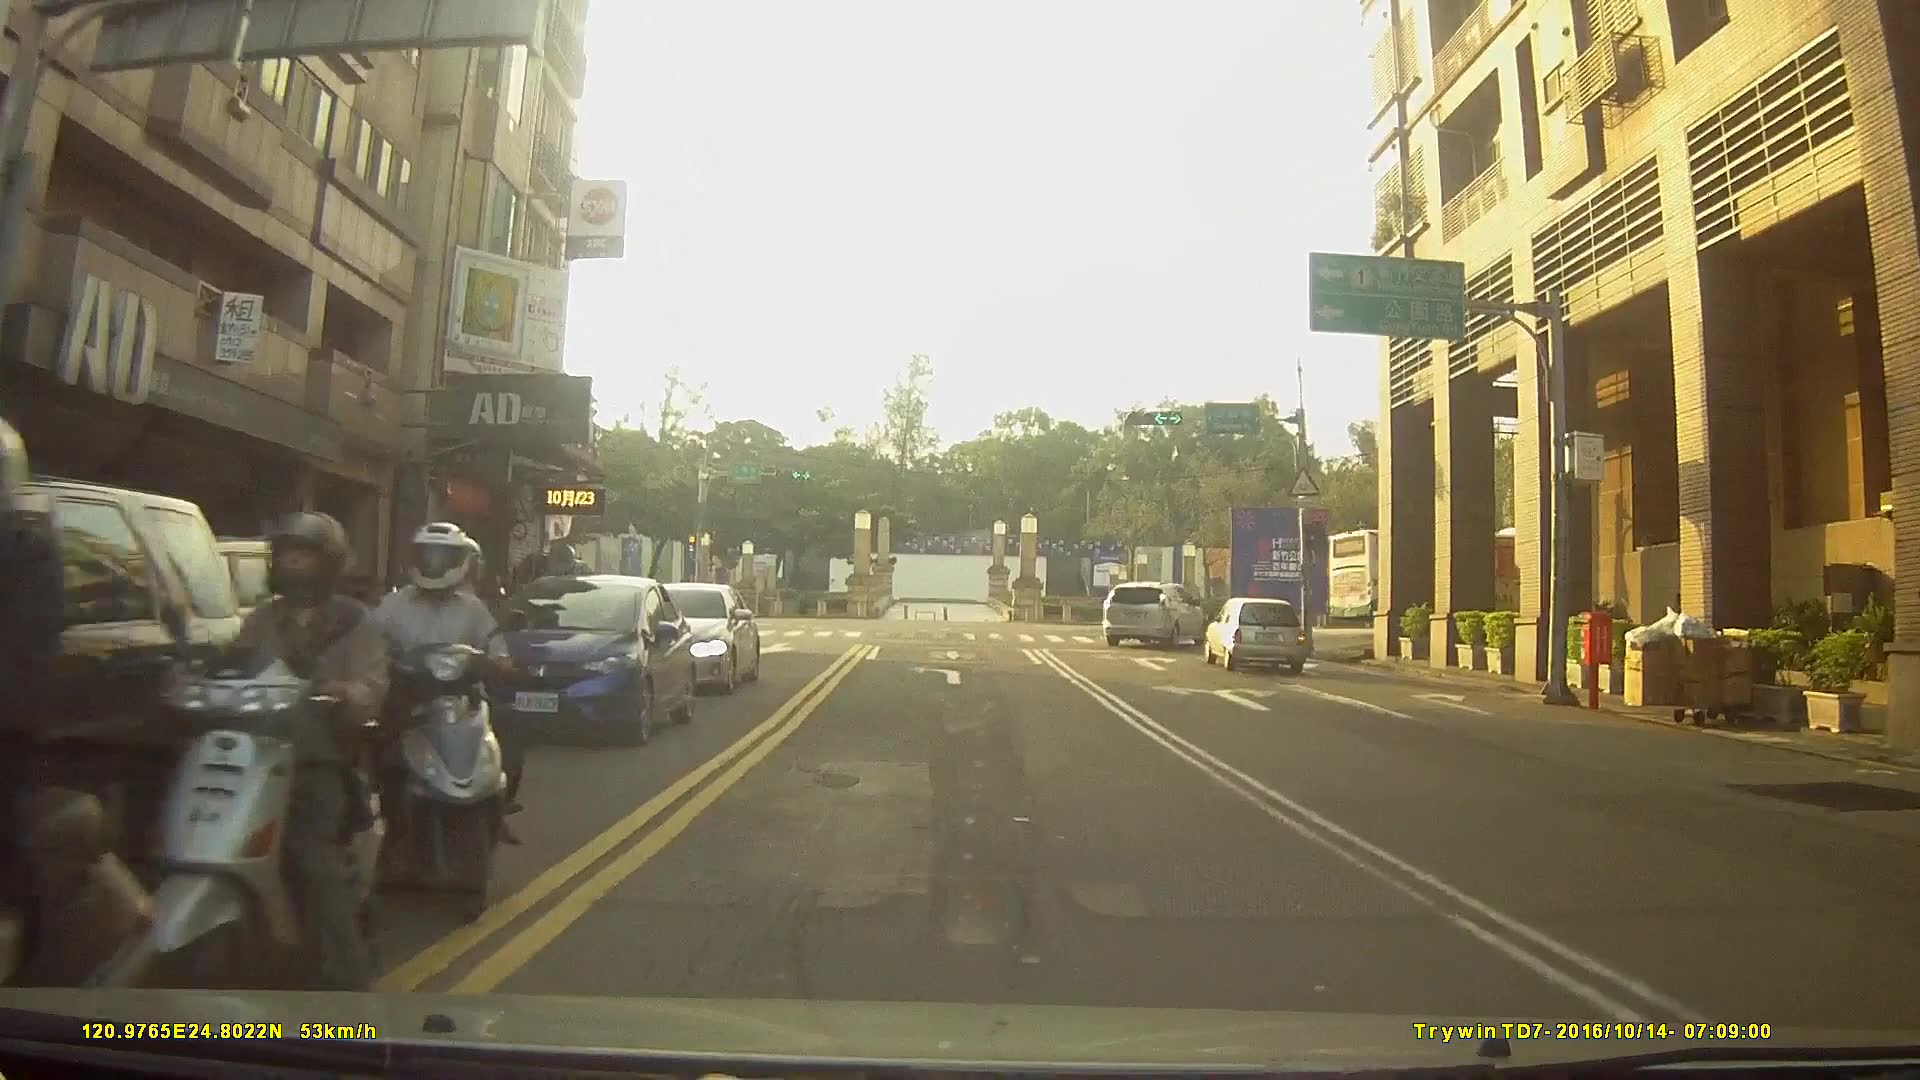rider: (141, 512, 394, 1021), (1, 418, 150, 1080), (343, 521, 533, 938)
vehicle: (460, 574, 696, 747), (1326, 526, 1592, 627), (601, 581, 756, 693), (1203, 595, 1307, 671), (1103, 581, 1208, 647)
